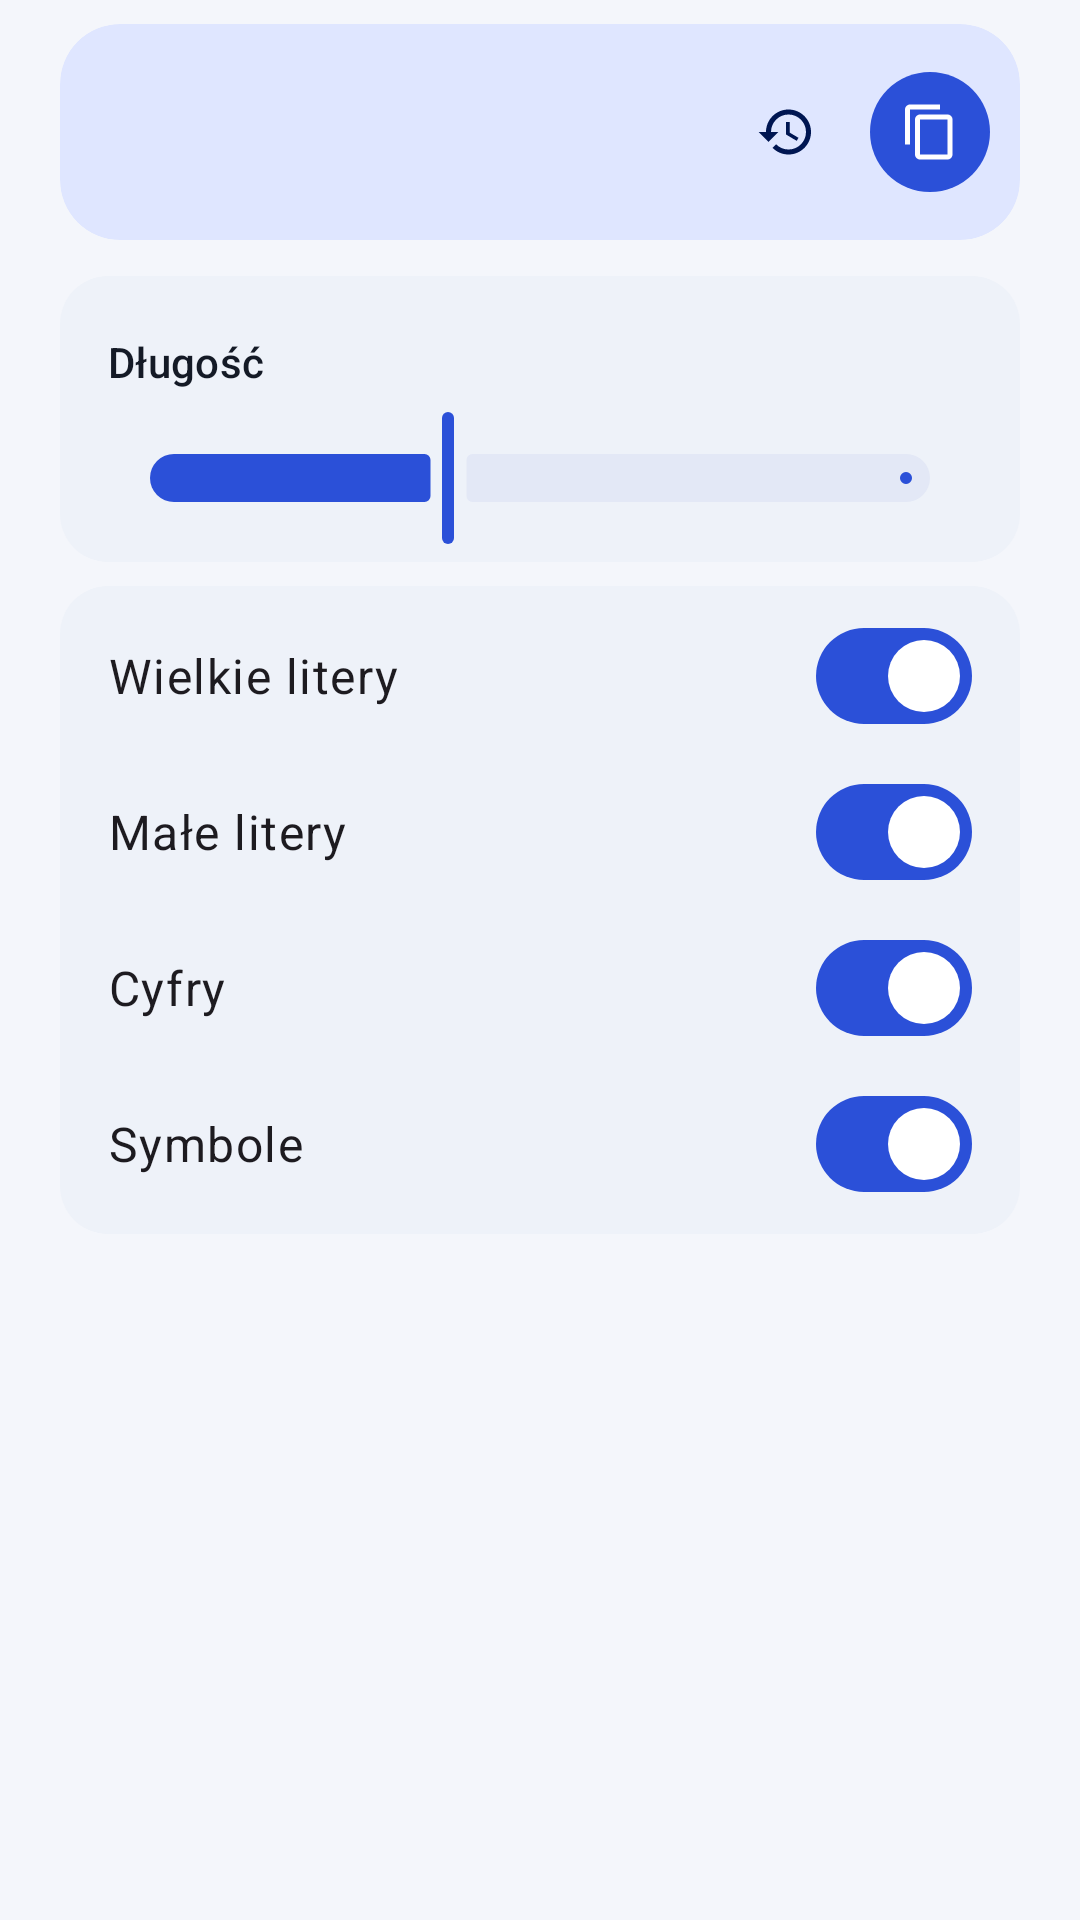

Locate icon controls on the screen. Image size 1080 × 1920, boxes as (x1, y1, x2, y2).
Kopiuj: (870, 72, 990, 192)
